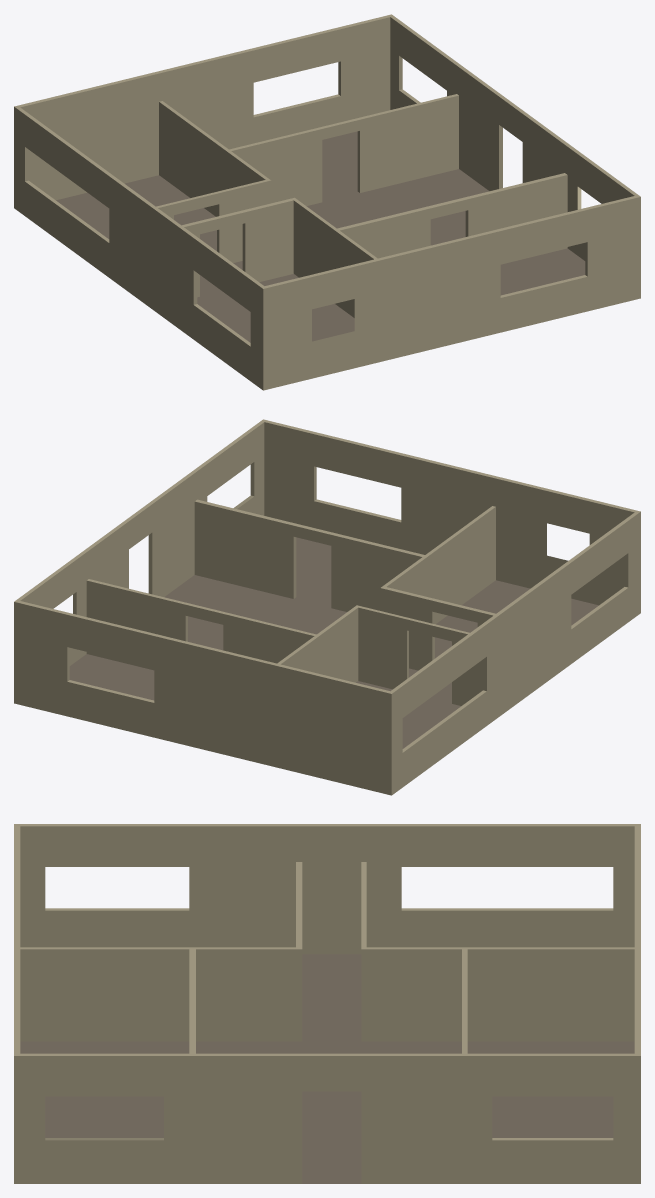
File: cuartosDREAM.glb
3 renders of one model, top to bottom at view 1: azimuth 30°, elevation 25°; view 2: azimuth 150°, elevation 25°; view 3: azimuth 270°, elevation 25°, orthographic. The views are drawn at different scales.
Visible parts, largest first — view 1: Plane.001; view 2: Plane.001; view 3: Plane.001.
Boxes of the visible parts, x1,y1,x2,y2 form: Plane.001: (14,14,640,390); Plane.001: (14,419,640,795); Plane.001: (14,824,640,1183).
Bounding box in the file's own units: 70 × 18 × 80.
